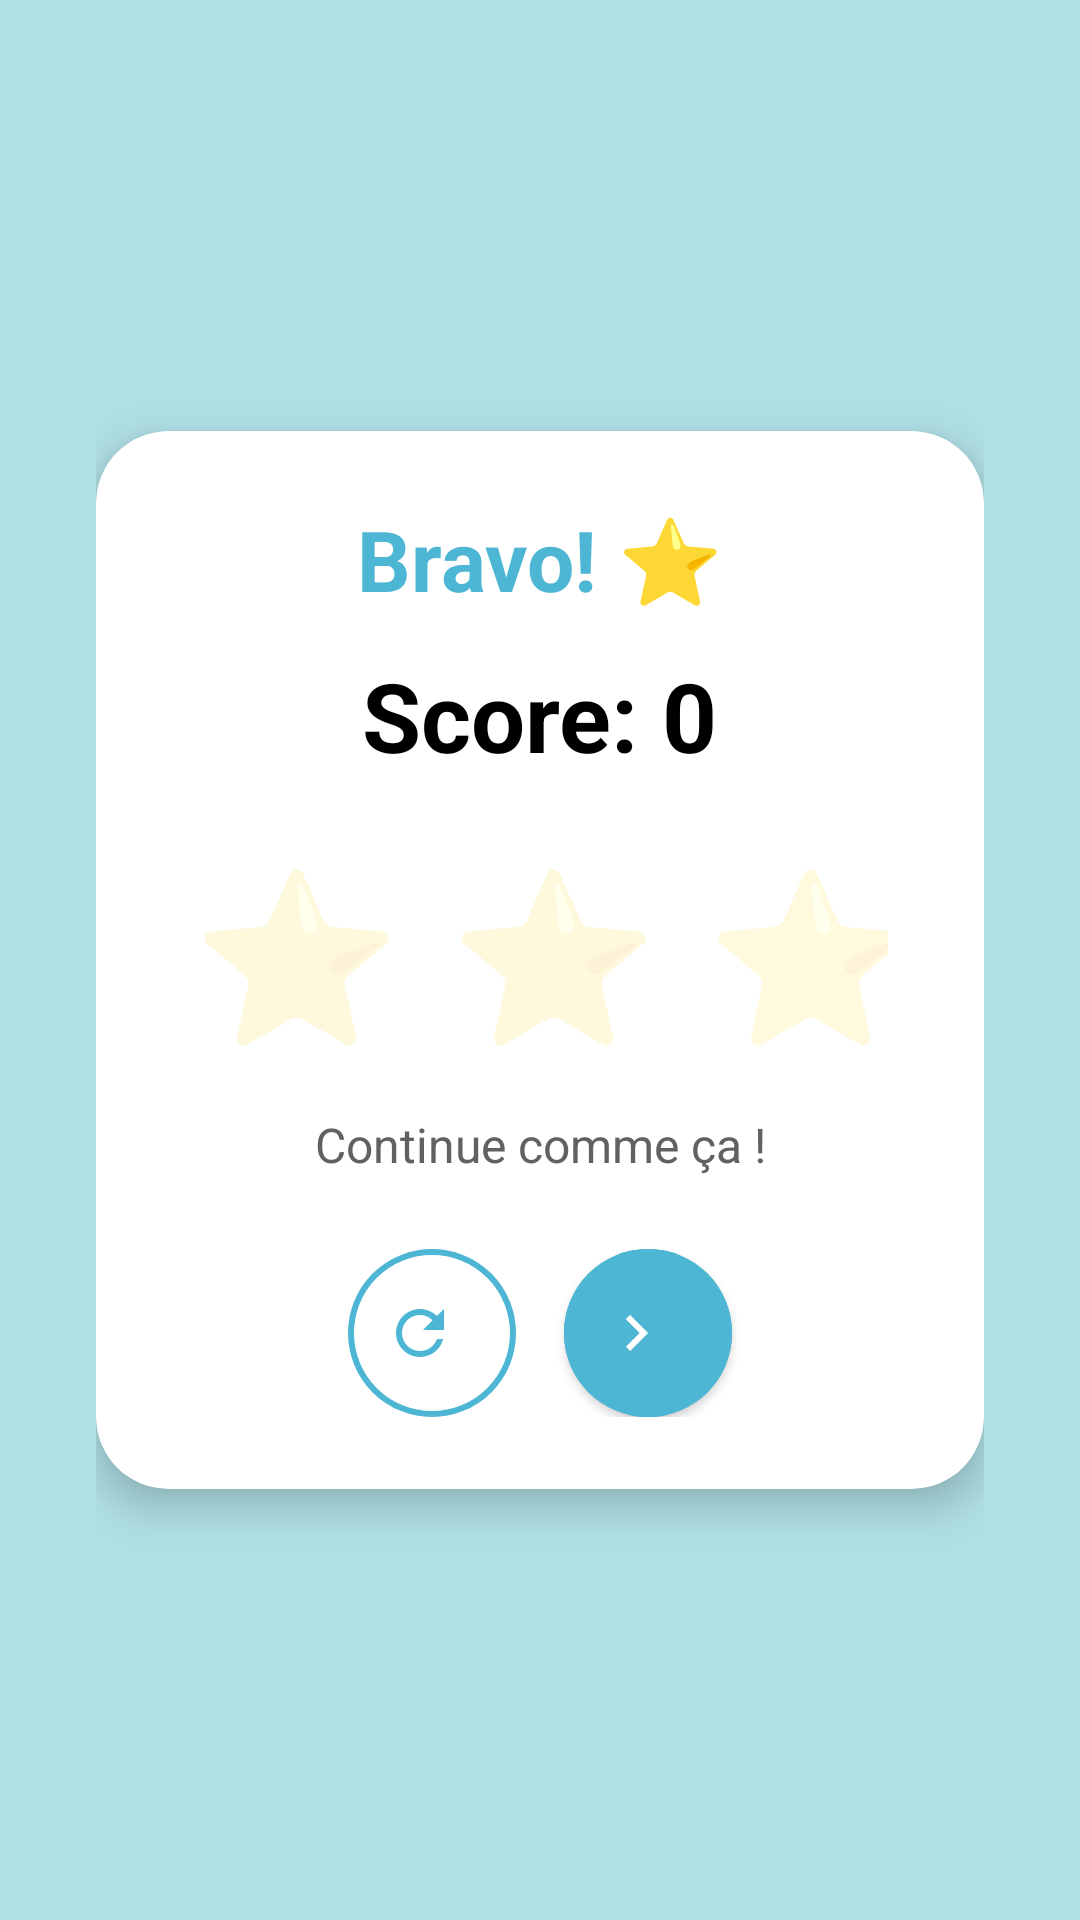

Where to tap for icons on this 1080px x 1920px app screen, as (x=x, y=y):
next arrow: (x=648, y=1333)
restart: (x=432, y=1333)
